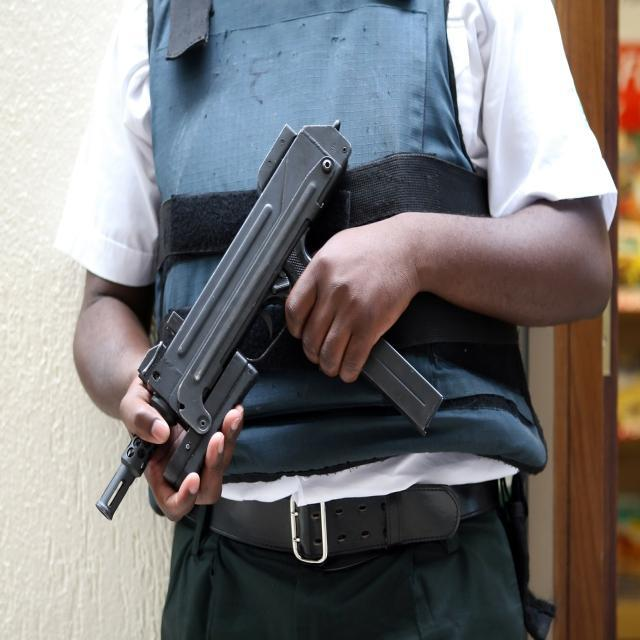Gun: (139, 122, 350, 488), (362, 340, 442, 434), (96, 438, 156, 519)
